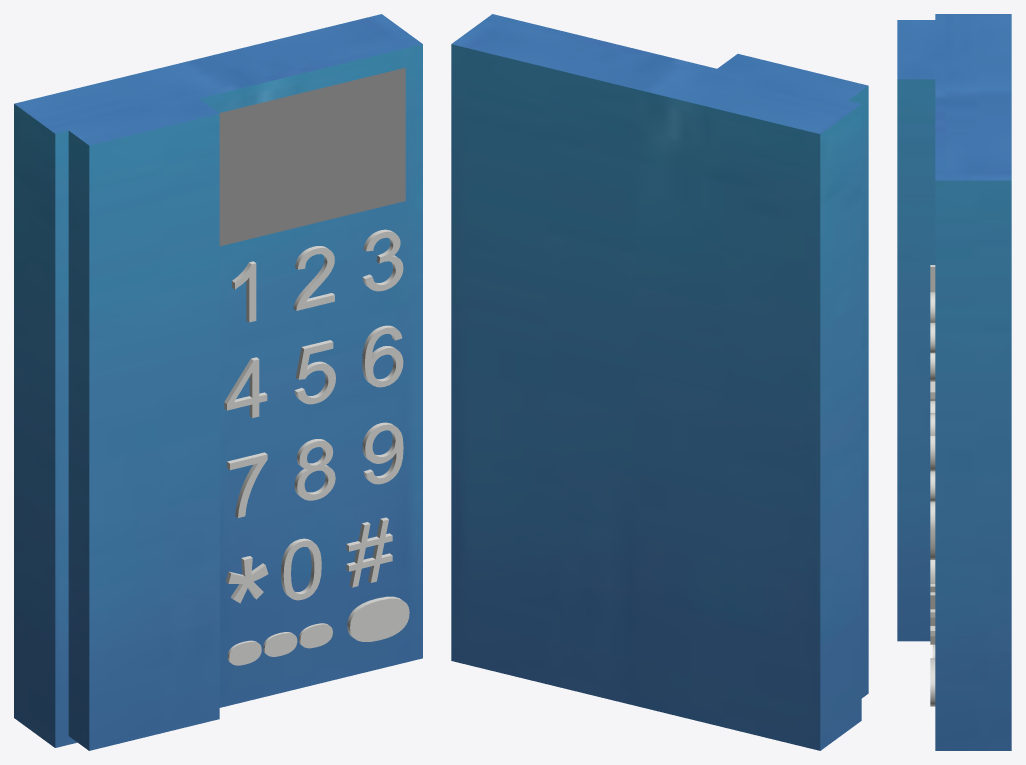
The model's file is dianhua.gltf.
3 views of the same model, side by side, from view 1: azimuth 30°, elevation 25°; view 2: azimuth 150°, elevation 25°; view 3: azimuth 270°, elevation 25° (orthographic). The views are drawn at different scales.
Parts seen in each view (by area): view 1: Mesh17 ___1_1 Model, Mesh3 G_0_3 ___1_1 Model, Mesh15 G_1_2_3_4_5_6_7_8_1 ___1_1 Model, Mesh11 G_1_2_3_4_5_6_7_8_1 ___1_1 Model, Mesh9 G_1_2_3_4_5_6_7_8_1 ___1_1 Model, Mesh12 G_1_2_3_4_5_6_7_8_1 ___1_1 Model, Mesh8 G_1_2_3_4_5_6_7_8_1 ___1_1 Model, Mesh5 G_1_2_3_4_5_6_7_8_1 ___1_1 Model, Mesh14 G_1_2_3_4_5_6_7_8_1 ___1_1 Model, Mesh7 G_1_2_3_4_5_6_7_8_1 ___1_1 Model, Mesh6 G_1_2_3_4_5_6_7_8_1 ___1_1 Model, Mesh13 G_1_2_3_4_5_6_7_8_1 ___1_1 Model (+5 smaller); view 2: Mesh17 ___1_1 Model; view 3: Mesh17 ___1_1 Model, Mesh15 G_1_2_3_4_5_6_7_8_1 ___1_1 Model, Mesh6 G_1_2_3_4_5_6_7_8_1 ___1_1 Model, Mesh9 G_1_2_3_4_5_6_7_8_1 ___1_1 Model, Mesh12 G_1_2_3_4_5_6_7_8_1 ___1_1 Model, Mesh3 G_0_3 ___1_1 Model.
Boxes of the visible parts, x1,y1,x2,y2 form: Mesh17 ___1_1 Model: (14,14,422,750); Mesh3 G_0_3 ___1_1 Model: (347,596,409,641); Mesh15 G_1_2_3_4_5_6_7_8_1 ___1_1 Model: (346,517,392,587); Mesh11 G_1_2_3_4_5_6_7_8_1 ___1_1 Model: (294,439,335,500); Mesh9 G_1_2_3_4_5_6_7_8_1 ___1_1 Model: (362,325,403,387); Mesh12 G_1_2_3_4_5_6_7_8_1 ___1_1 Model: (362,422,403,484); Mesh8 G_1_2_3_4_5_6_7_8_1 ___1_1 Model: (294,340,335,404); Mesh5 G_1_2_3_4_5_6_7_8_1 ___1_1 Model: (293,246,334,310); Mesh14 G_1_2_3_4_5_6_7_8_1 ___1_1 Model: (281,538,321,600); Mesh7 G_1_2_3_4_5_6_7_8_1 ___1_1 Model: (224,357,267,417); Mesh6 G_1_2_3_4_5_6_7_8_1 ___1_1 Model: (362,229,403,291); Mesh13 G_1_2_3_4_5_6_7_8_1 ___1_1 Model: (226,556,268,603); Mesh17 ___1_1 Model: (451,14,868,750); Mesh17 ___1_1 Model: (897,14,1011,750); Mesh15 G_1_2_3_4_5_6_7_8_1 ___1_1 Model: (930,584,935,644); Mesh6 G_1_2_3_4_5_6_7_8_1 ___1_1 Model: (930,322,935,381); Mesh9 G_1_2_3_4_5_6_7_8_1 ___1_1 Model: (930,413,935,471); Mesh12 G_1_2_3_4_5_6_7_8_1 ___1_1 Model: (930,501,935,559); Mesh3 G_0_3 ___1_1 Model: (930,658,935,706).
Size of the model in its own units: 0.31 by 0.4949 by 0.09.
Materials: 4 (1 with a texture image).
